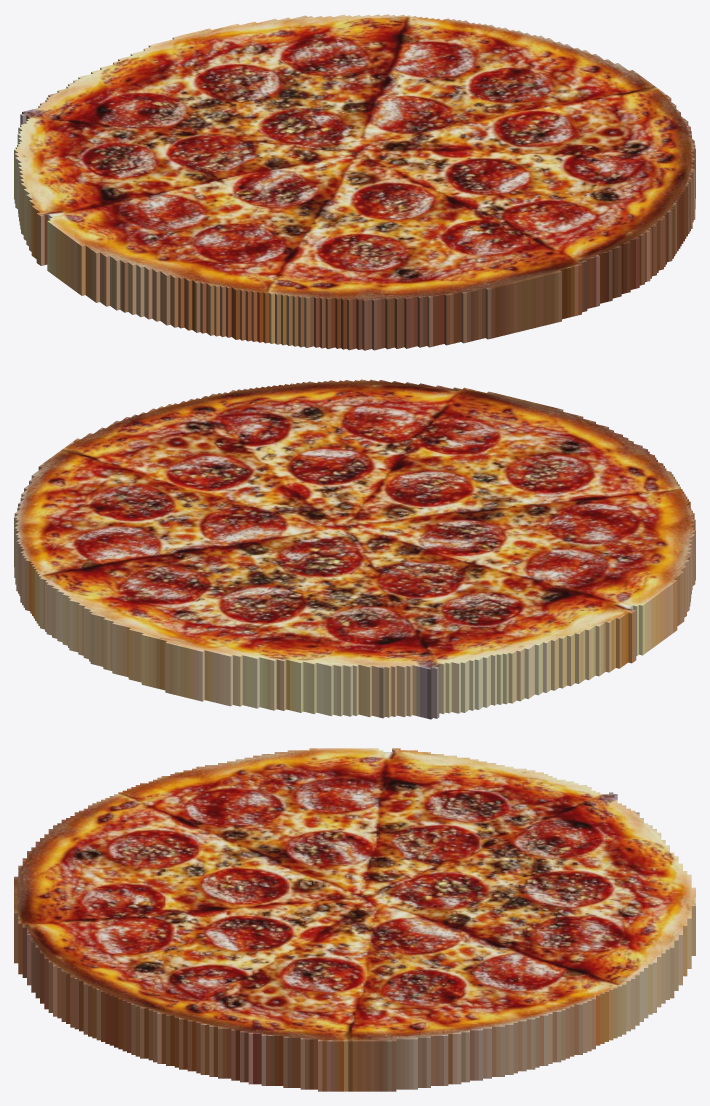
File: calabresa.glb
3 renders of one model, top to bottom at view 1: azimuth 30°, elevation 25°; view 2: azimuth 150°, elevation 25°; view 3: azimuth 270°, elevation 25°, orthographic.
Size of the model in its own units: 0.4 by 0.032 by 0.3936.
Materials: 1 (1 with a texture image).
